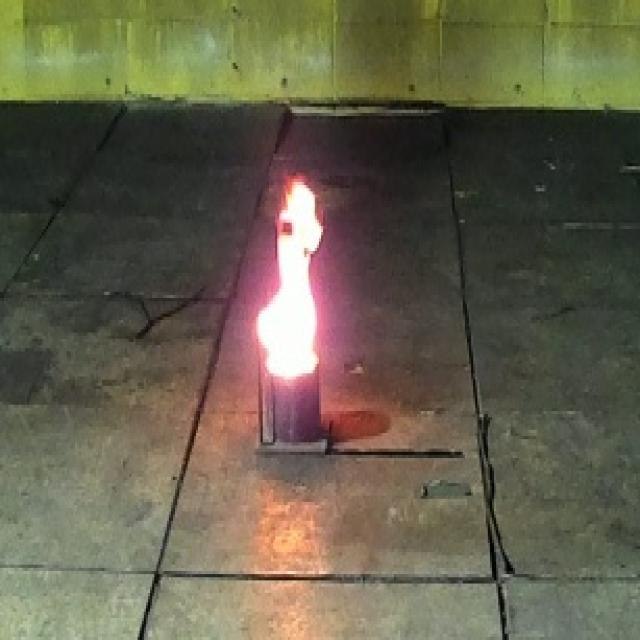Fire: (256, 178, 324, 382)
